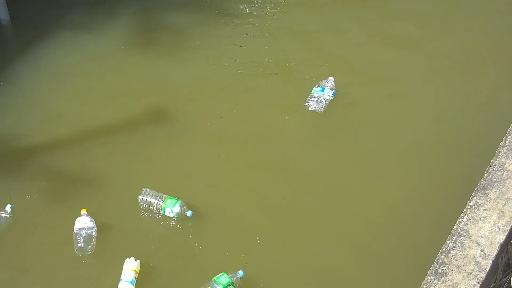plastic: (141, 189, 202, 217), (300, 73, 339, 113), (68, 210, 102, 251), (115, 253, 147, 288), (199, 265, 247, 288), (0, 201, 18, 220)
